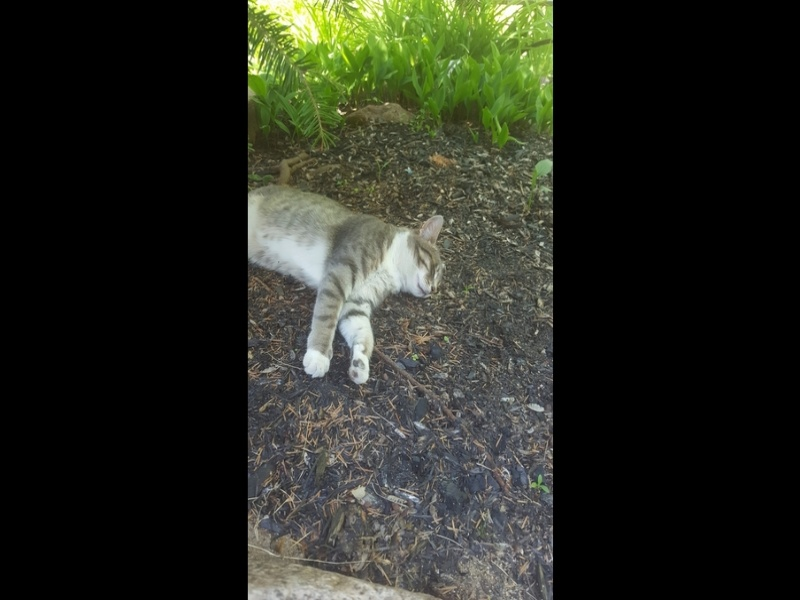cat: (253, 160, 446, 391)
